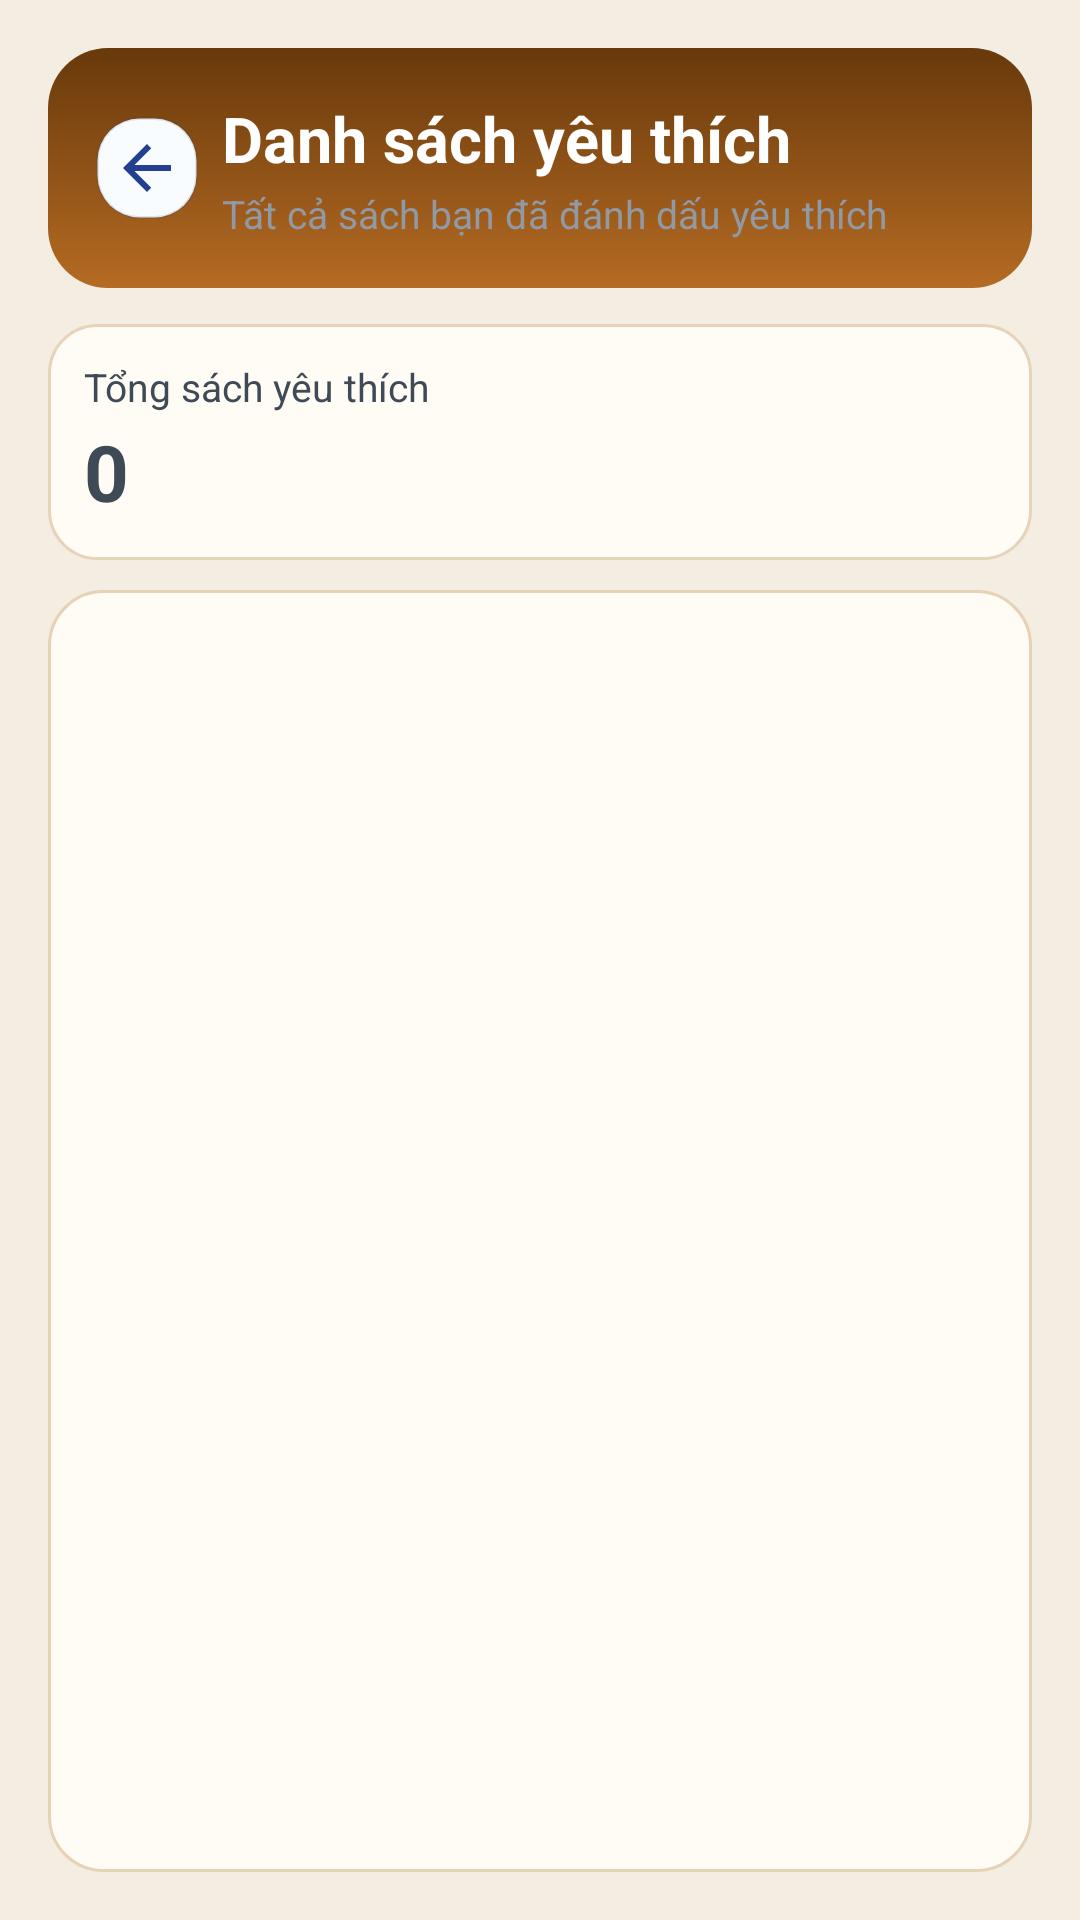

Icon click points for this 1080x1920 phone screenshot, format point (x, y):
Quay lại: point (147, 168)
